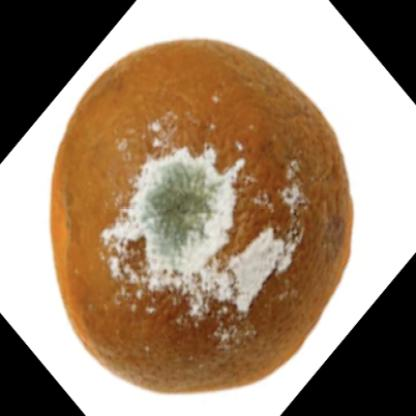rotten: (50, 38, 353, 394)
